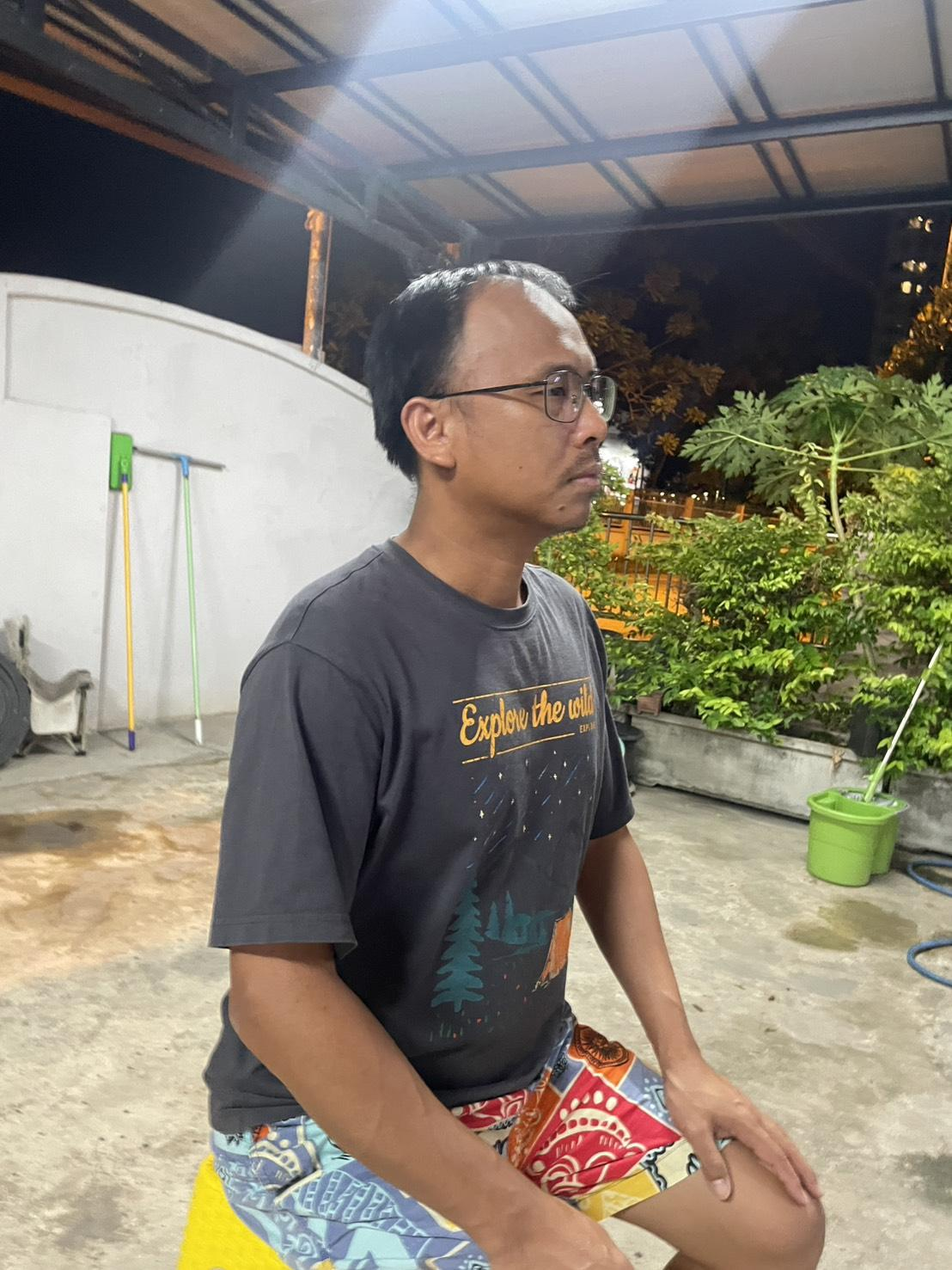GoodPosture: (206, 260, 824, 1269), (205, 261, 630, 1124)
